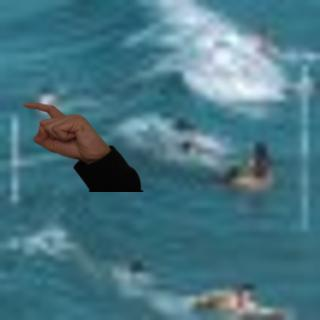WHY: (18, 96, 104, 160)
